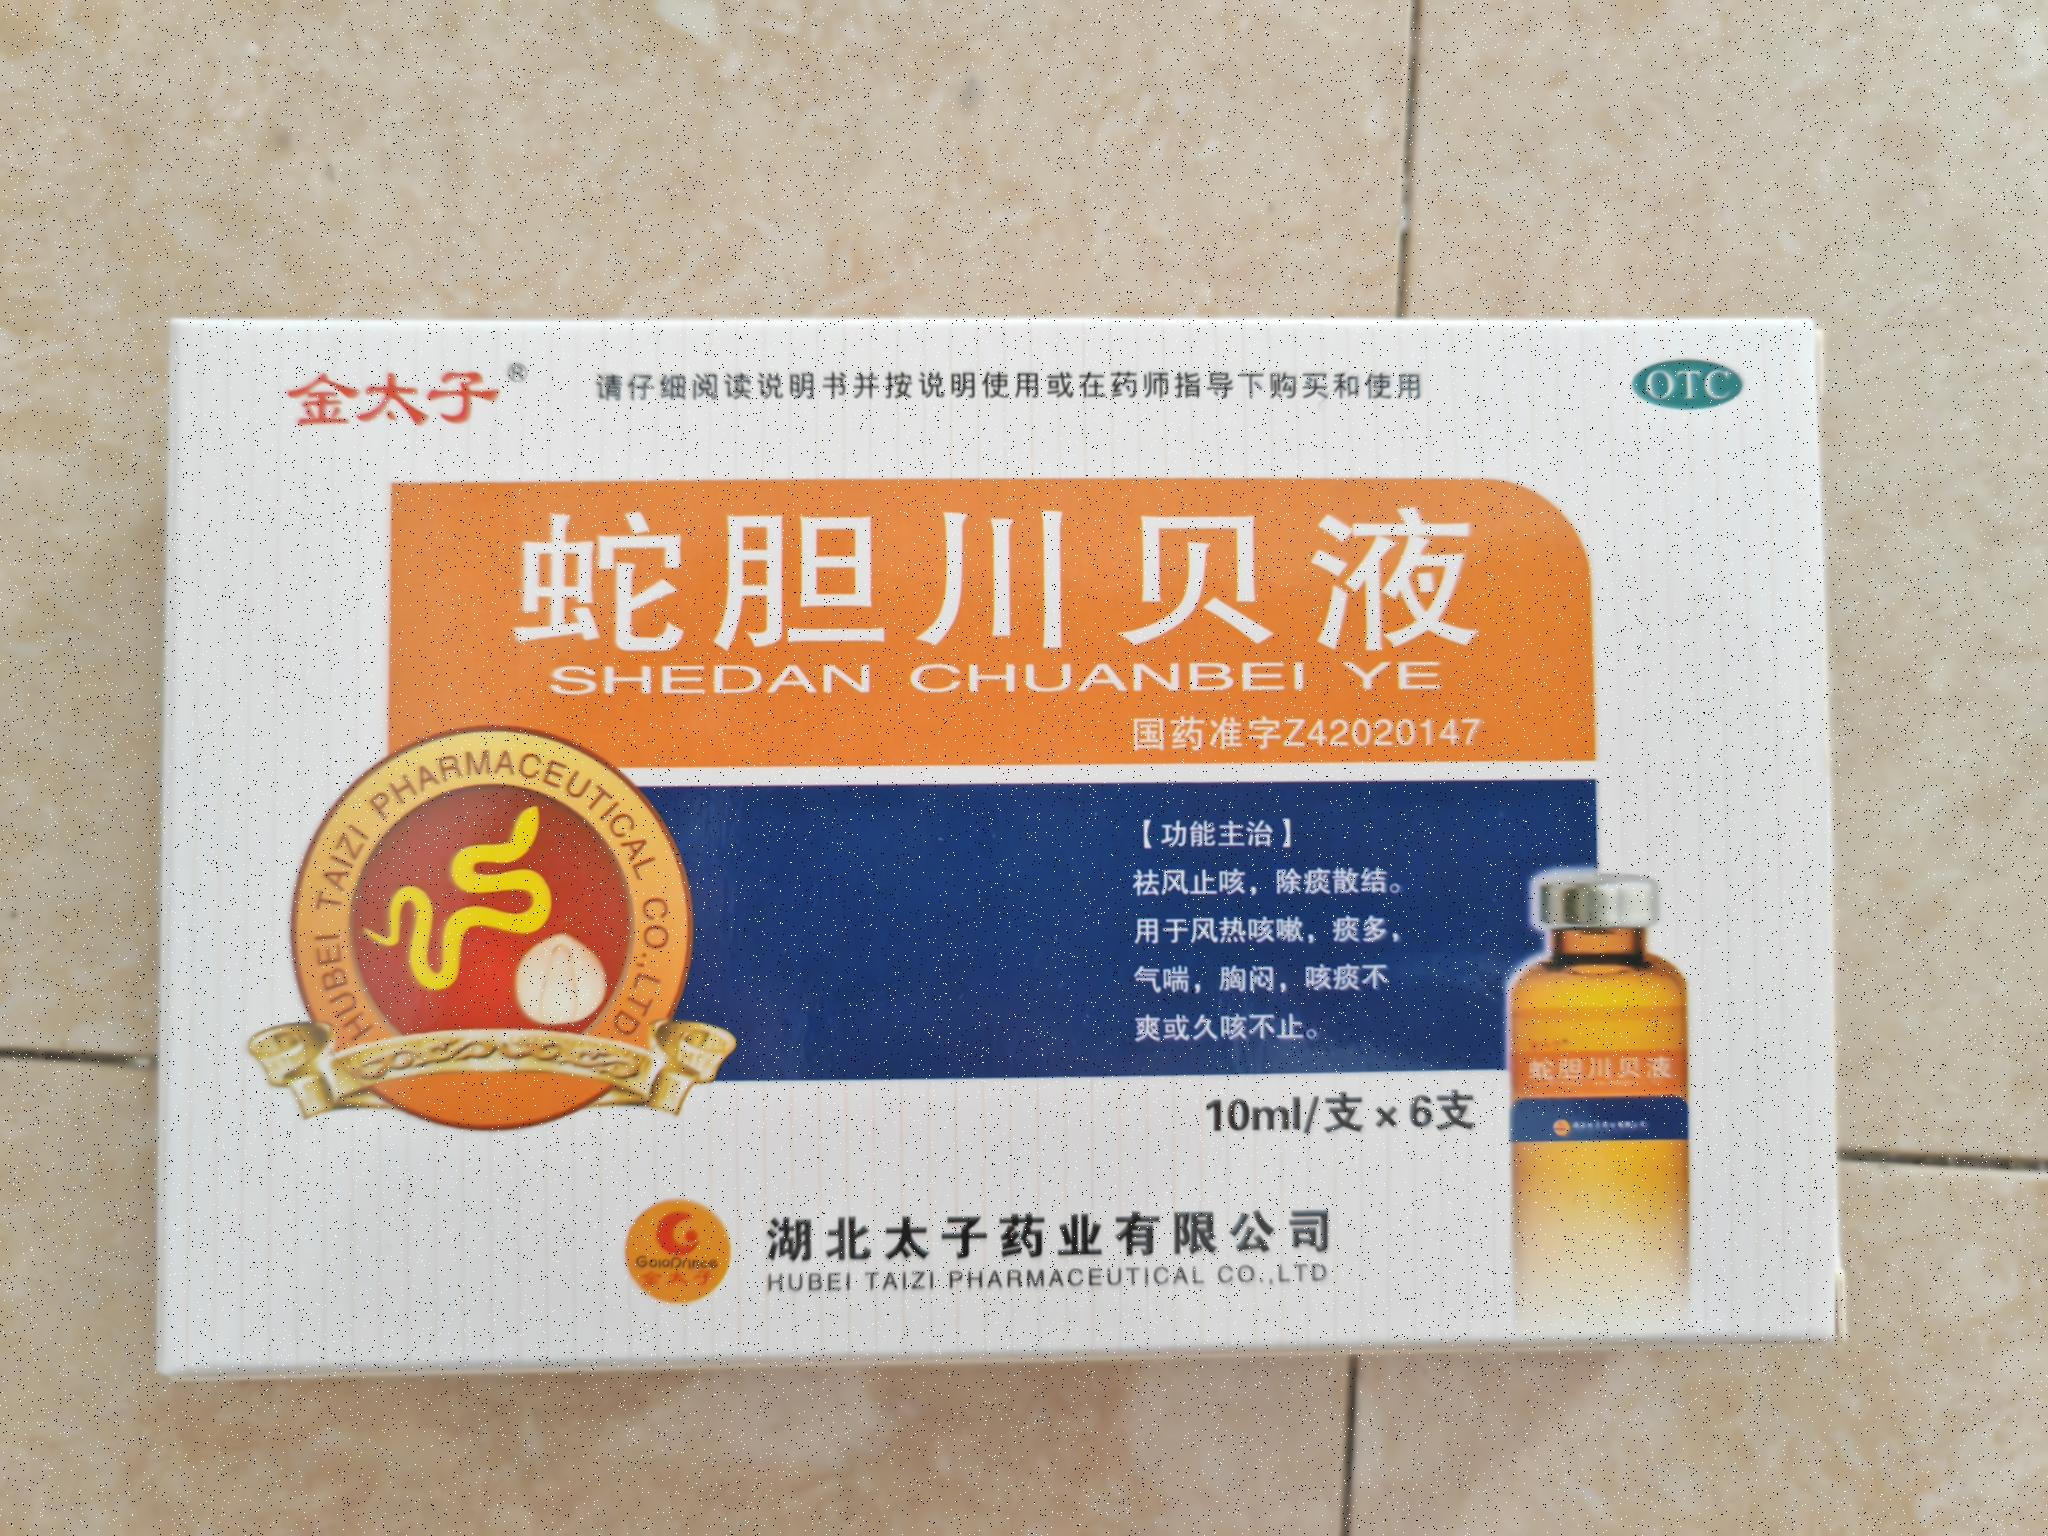Medicine5: (137, 273, 1885, 1399)
